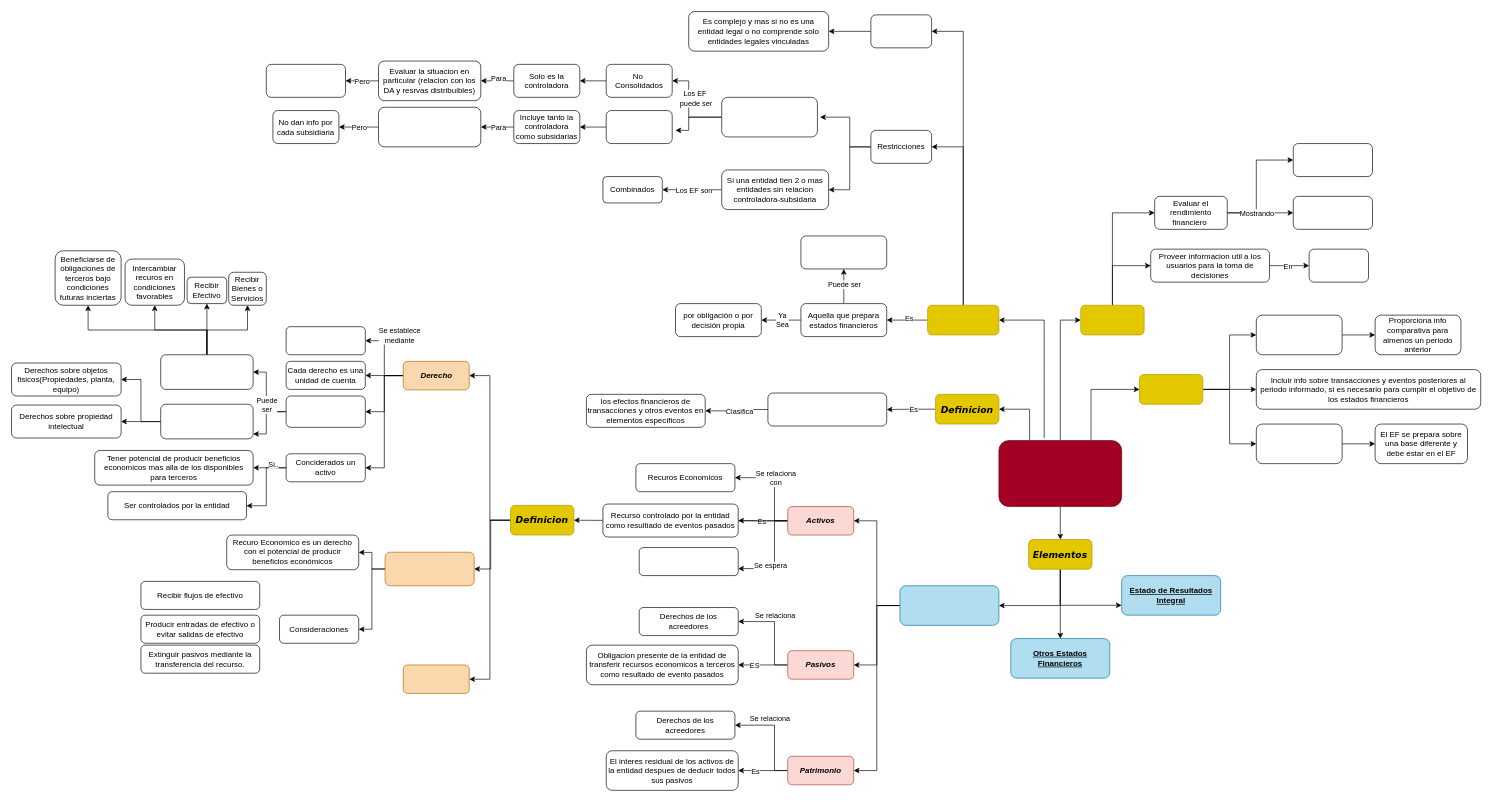
Image size: 1492x802. Some labels were removed from this diagram. The shapes that lost their labels are listed below. From the top down, each one's box as (x1, y1, x2, y2) in pixels, then its label:
(870, 14, 932, 48): Limites
(266, 64, 346, 97): Dan suficiente info como para sustiuir los consolidados
(378, 107, 481, 147): Evaluar las entradas de efectivo netas futuras de la controladora
(606, 110, 672, 144): Consolidados
(721, 97, 817, 137): Si una entidad controladora contra otra (Subsidaria)
(1293, 143, 1372, 177): Las perspectivas de entradas de efectivo futuras
(1293, 196, 1372, 229): La gestion de los recursos economicos
(800, 235, 887, 269): Una o un grupo de entidades
(1308, 248, 1369, 282): Un periodo especifico
(927, 305, 999, 335): Entidad que informa
(1080, 305, 1144, 335): Objetivo
(1256, 314, 1342, 355): Para Facilitar la evaluacion de cambios y tendencias
(285, 326, 365, 355): Contratos, legislacion u otro medio similar
(160, 354, 253, 389): Derechos Vinculados a una obligacion de un tercero
(1139, 374, 1203, 404): Datos Extras
(160, 404, 253, 439): Derechos NO Vinculados a una obligacion de un tercero
(285, 395, 365, 427): Derechos con potencial de producir beneficios
(767, 392, 887, 426): Una forma estructurada de presentar IF sobre una entidad
(1256, 423, 1342, 464): Si la entidad no tiene futuro previsible
(998, 440, 1122, 507): Estados Financieros
(384, 552, 474, 586): Potencial para producir beneficios economicos
(639, 547, 738, 576): Genere beneficios economicos futuros
(899, 585, 999, 625): Estado de Situacion Financiera
(403, 664, 469, 693): Control
